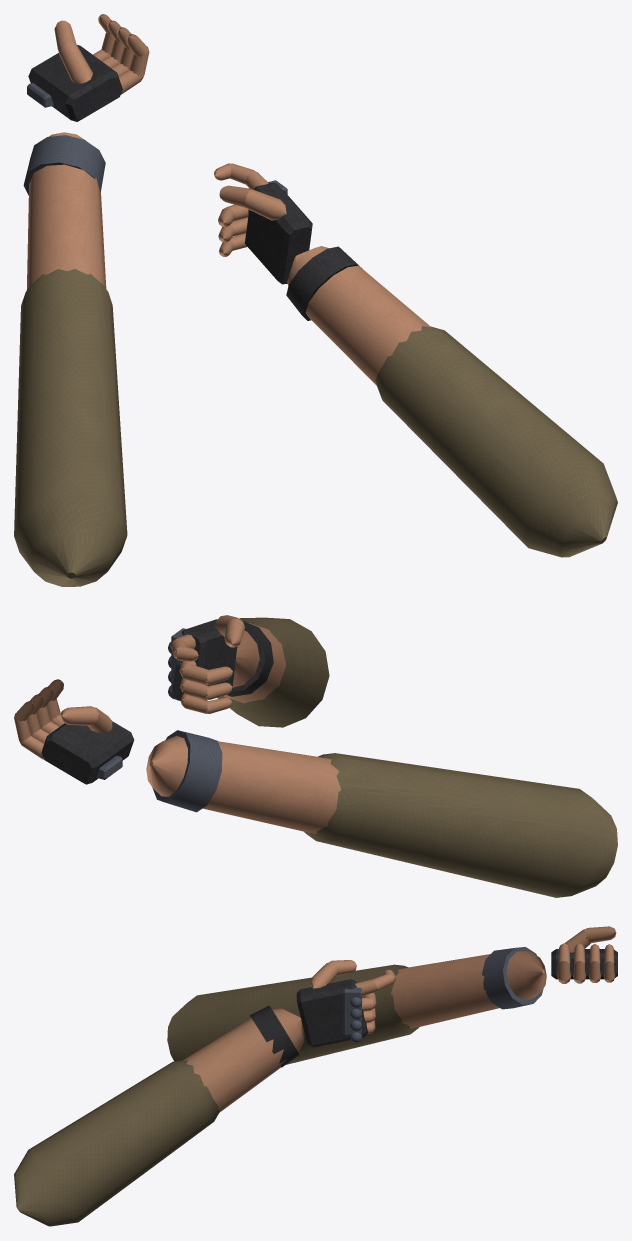
The model's file is fp_hands_t_rifle.glb.
The picture shows the model from 3 angles, top to bottom: view 1: azimuth 30°, elevation 25°; view 2: azimuth 150°, elevation 25°; view 3: azimuth 270°, elevation 25°; orthographic projection. The views are drawn at different scales.
Parts seen in each view (by area): view 1: WeaponRoot; view 2: WeaponRoot; view 3: WeaponRoot.
Boxes of the visible parts, left/top/right/bottom form: WeaponRoot: left=14, top=14, right=617, bottom=586; WeaponRoot: left=14, top=615, right=617, bottom=897; WeaponRoot: left=14, top=926, right=617, bottom=1226.
Size of the model in its own units: 0.5145 by 0.3141 by 0.708.
Materials: 4 (4 with a texture image).
